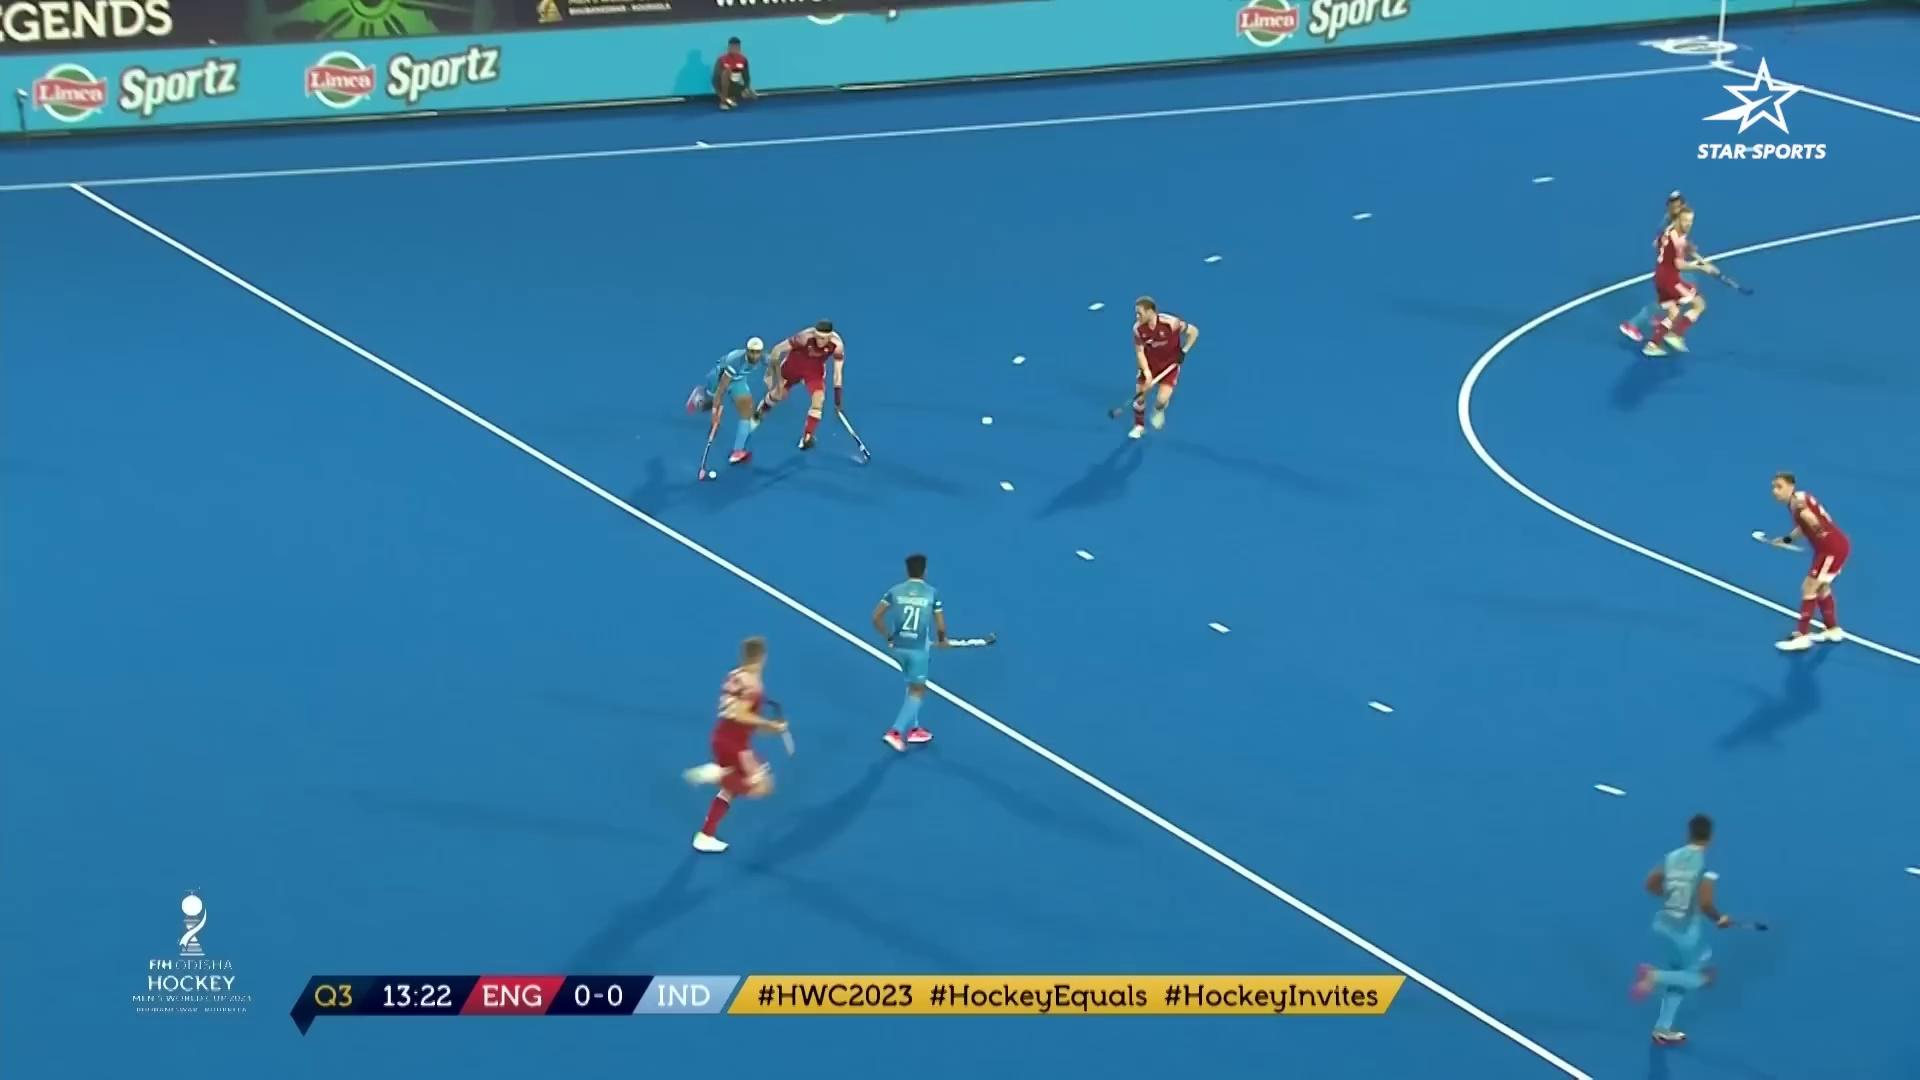ball: (705, 456, 723, 487)
